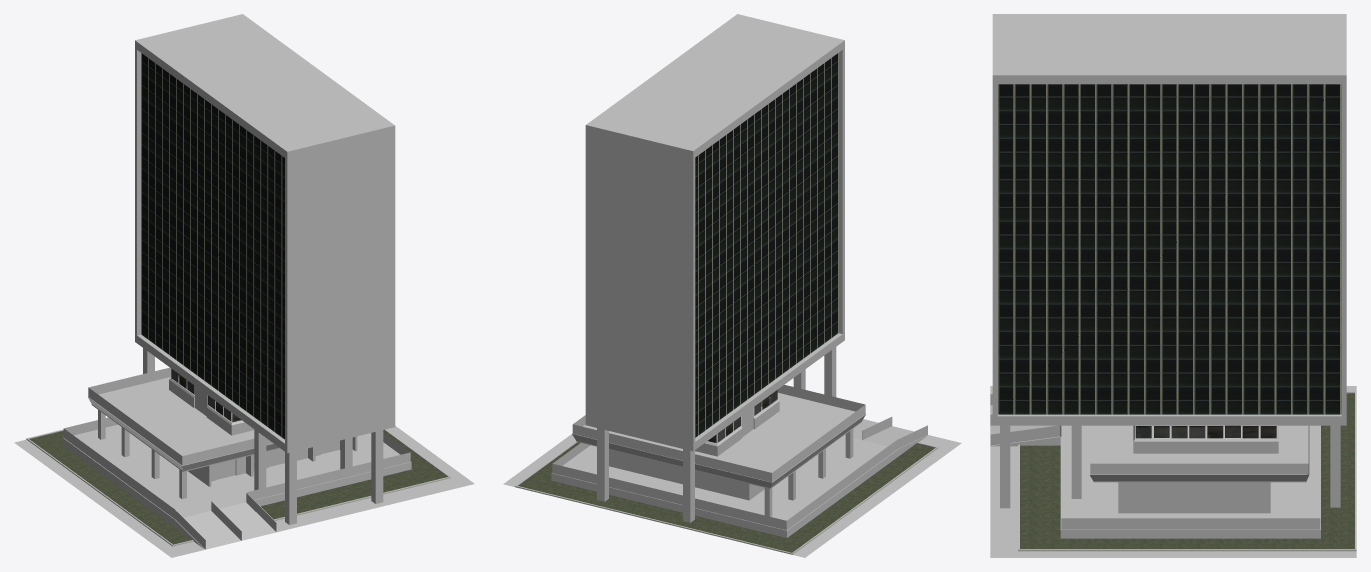
3 renders of one model, left to right at view 1: azimuth 30°, elevation 25°; view 2: azimuth 150°, elevation 25°; view 3: azimuth 270°, elevation 25°, orthographic. The views are drawn at different scales.
Parts seen in each view (by area): view 1: BC-P05; view 2: BC-P05; view 3: BC-P05.
Boxes of the visible parts, x1=… form: BC-P05: x1=14, y1=14, x2=474, y2=557; BC-P05: x1=503, y1=14, x2=961, y2=557; BC-P05: x1=990, y1=14, x2=1356, y2=557.
Size of what is drawn, in the model's own units: 40 by 47.5 by 36.01.
